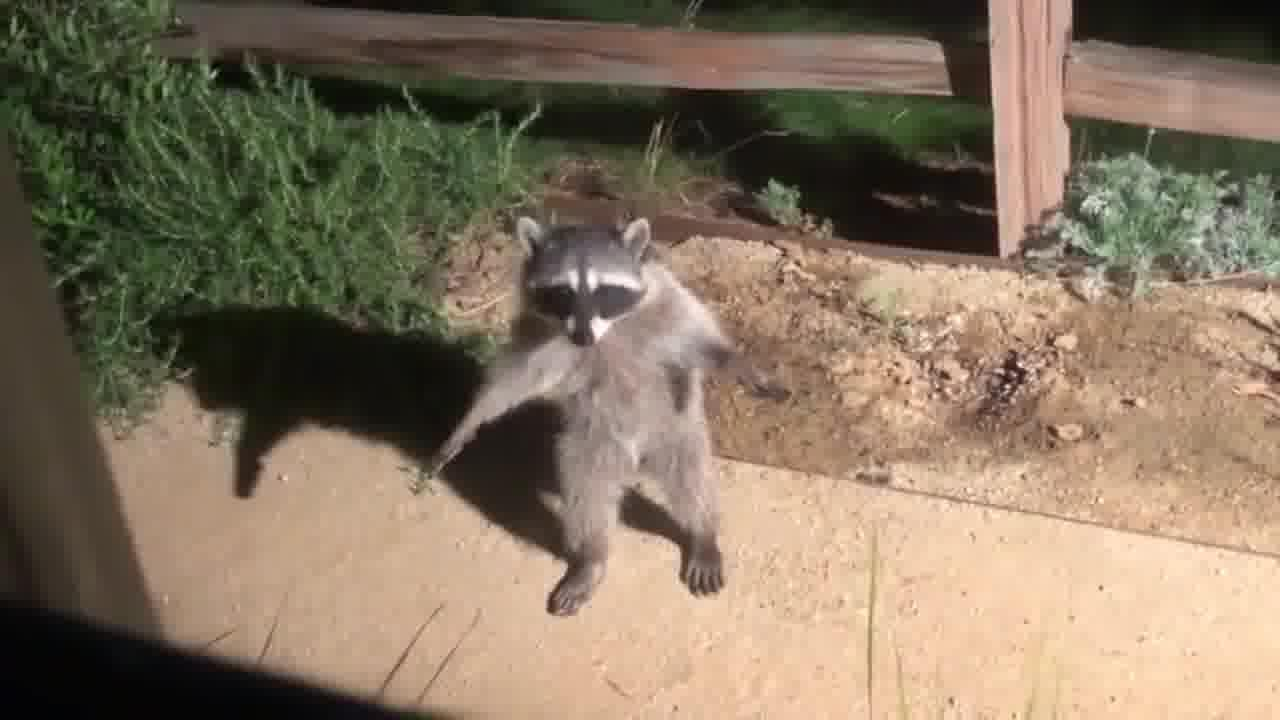raccoon: (408, 212, 795, 614)
